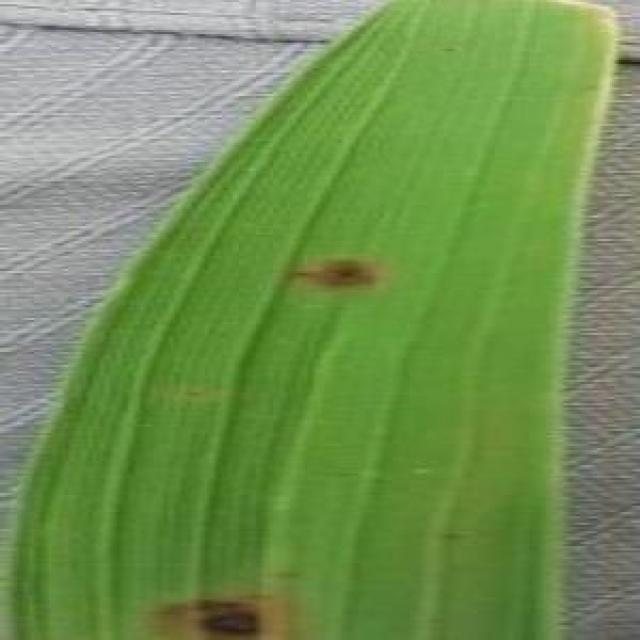Brown_Spot: (130, 575, 302, 640), (289, 254, 386, 292)
